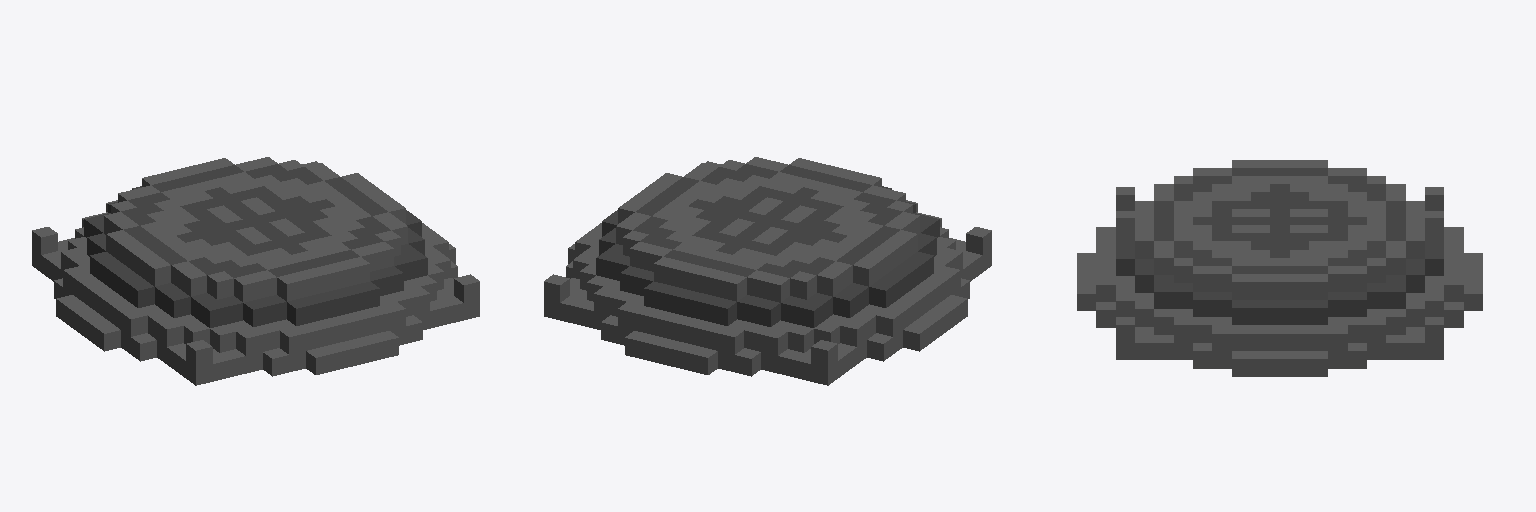
3 renders of one model, left to right at view 1: azimuth 30°, elevation 25°; view 2: azimuth 150°, elevation 25°; view 3: azimuth 270°, elevation 25°, orthographic.
Visible parts, largest first — view 1: object 1; view 2: object 1; view 3: object 1.
Part boxes in pixels (x1,y1,x2,y2): object 1: (32, 157, 479, 385); object 1: (544, 157, 991, 385); object 1: (1077, 160, 1482, 376).
Size of the model in its own units: 2.1 by 0.4 by 2.1.
1 materials, 1 textured.